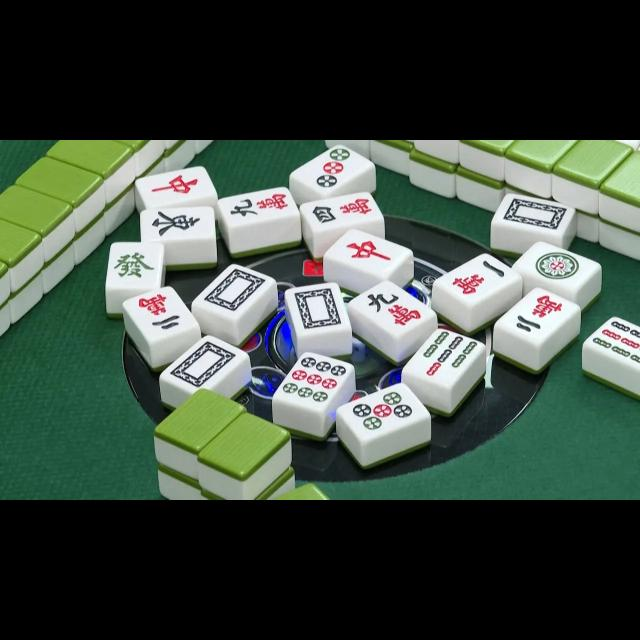b7: (417, 330, 478, 384)
b9: (592, 318, 640, 368)
c1: (448, 255, 508, 305)
c2: (508, 289, 568, 343), (132, 288, 188, 340)
c4: (306, 194, 379, 228)
c9: (356, 284, 428, 332), (224, 190, 292, 226)
d1: (528, 247, 590, 290)
d3: (297, 144, 365, 190)
d5: (342, 388, 422, 436)
d9: (285, 354, 345, 408)
dg: (108, 242, 160, 290)
dr: (337, 229, 399, 277), (146, 164, 208, 206)
dw: (172, 337, 234, 391), (204, 266, 264, 318), (500, 194, 568, 233), (292, 284, 344, 334)
we: (144, 208, 212, 238)
